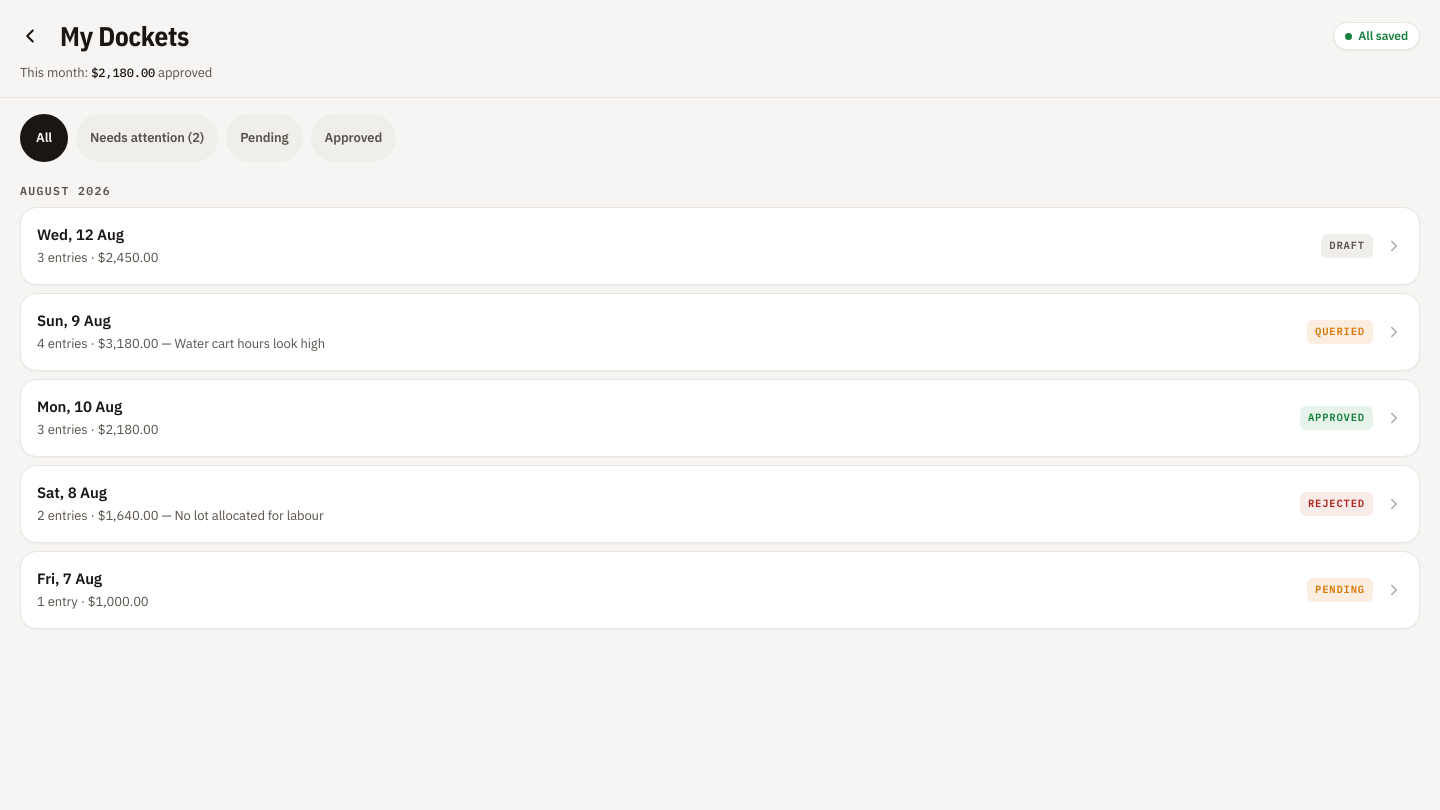
Test case: subbie shell DocketsListScreen › Approved filter shows only approved dockets
expect the button "Wed, 12 Aug 3 entries · $2,450.00 DRAFT" is shown: met, box [20, 207, 1420, 285]
Step 1. Click the button "Approved" → {"x": 353, "y": 138}, box [310, 114, 396, 162]
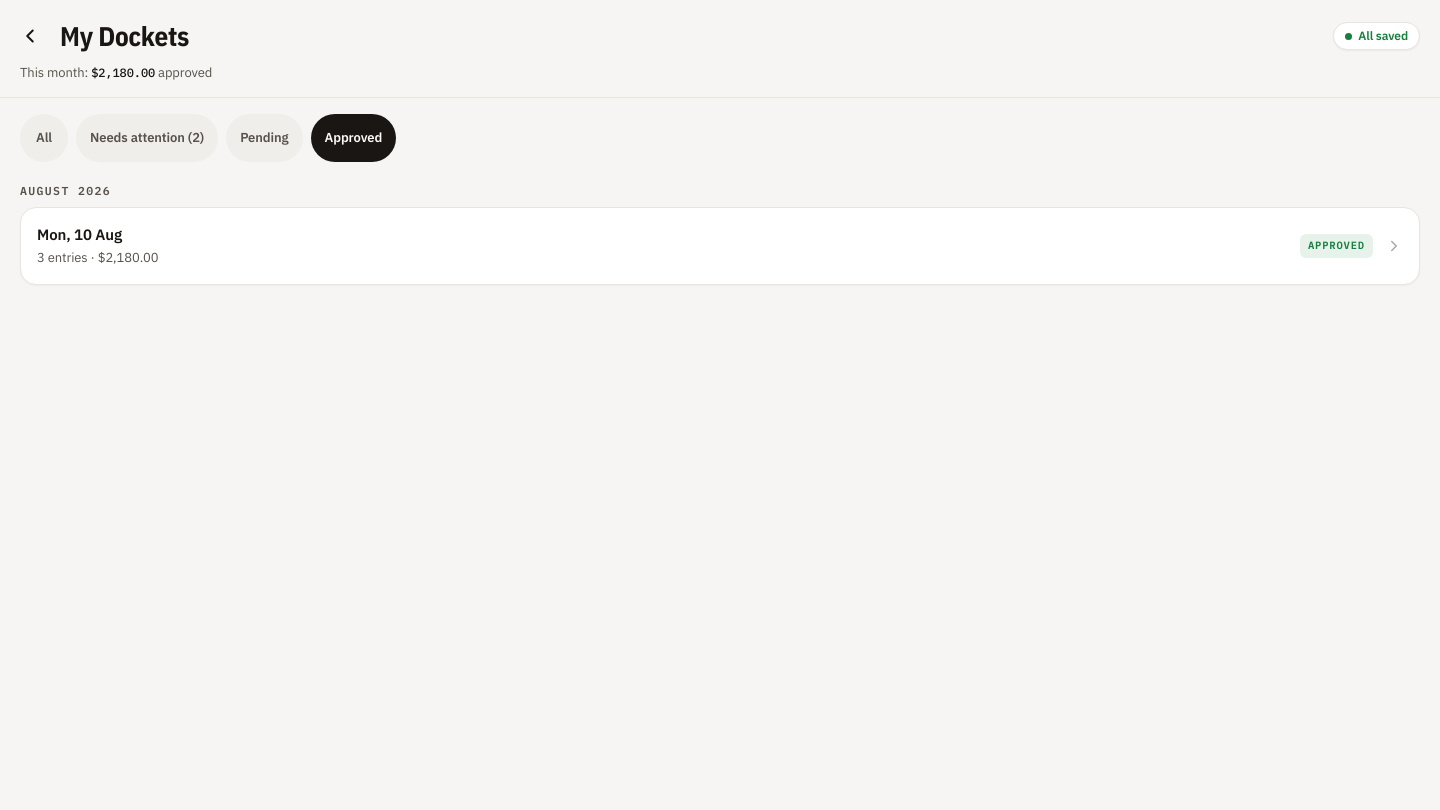
expect the text "APPROVED" is shown: met, box [1300, 234, 1373, 258]
expect the button "QUERIED" is gone: met
expect the button "DRAFT" is gone: met
